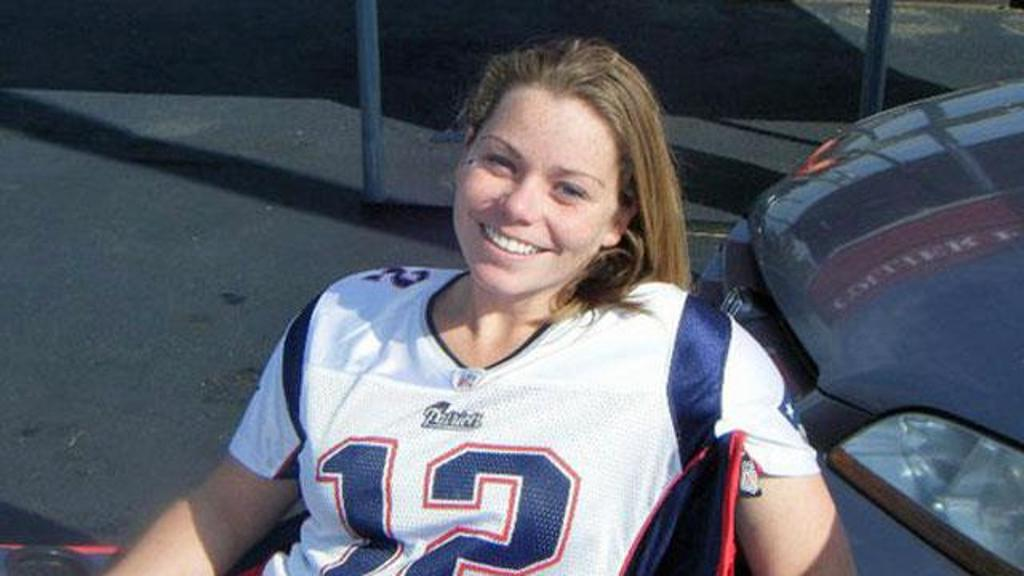face: (476, 100, 596, 278)
